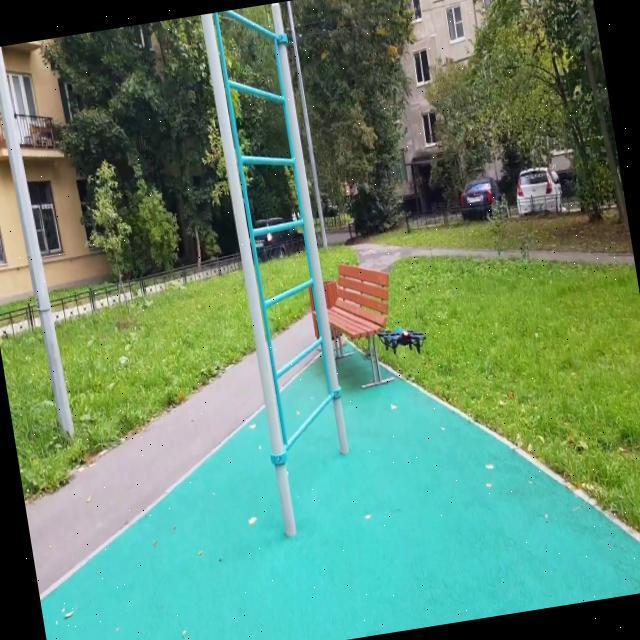Drons: (374, 323, 430, 362)
